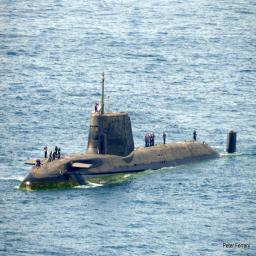submarine: (20, 71, 237, 192)
